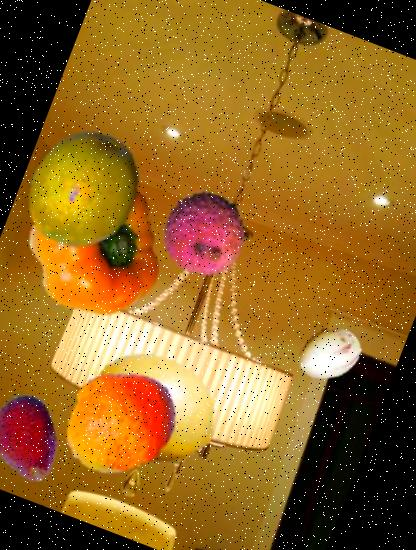Lemon: (63, 320, 239, 496)
Lychee: (148, 180, 260, 292)
Mandarine: (44, 347, 195, 498)
Maracuja: (5, 110, 162, 268)
Pepino: (286, 311, 370, 395)
Pepper: (7, 159, 188, 339)
Salak: (0, 383, 80, 497)
